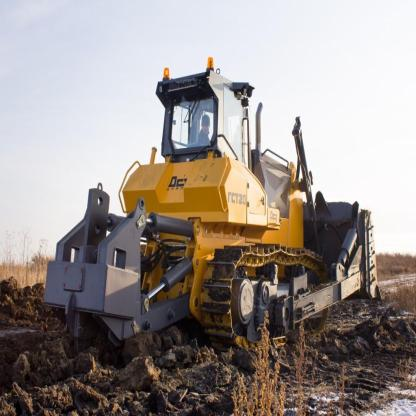bull_dozer/loader/grader: (48, 33, 392, 350)
